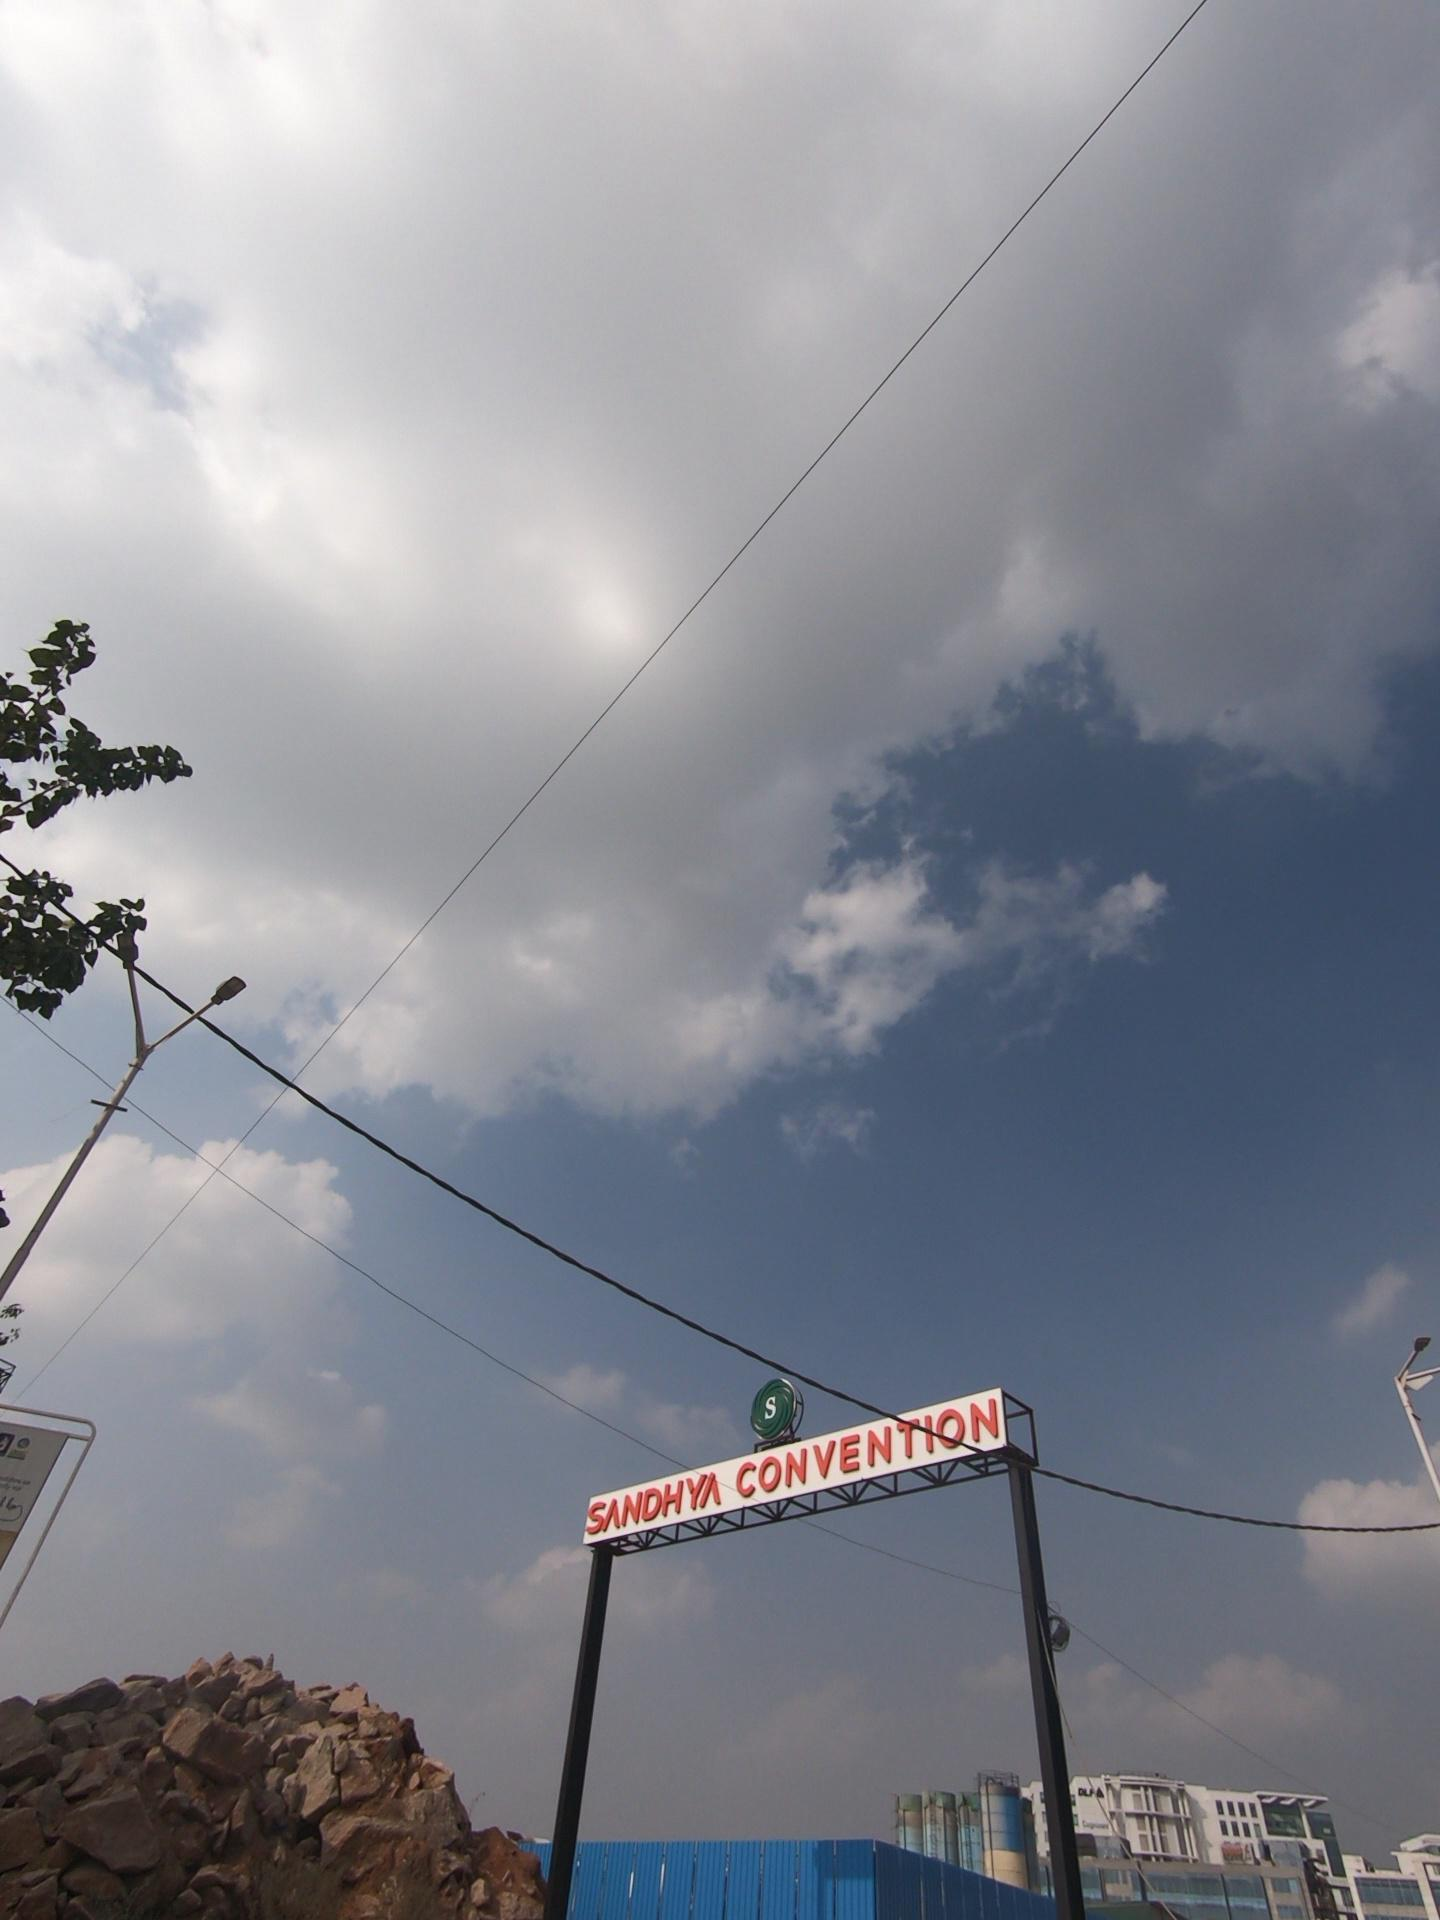off: (89, 847, 324, 1155)
